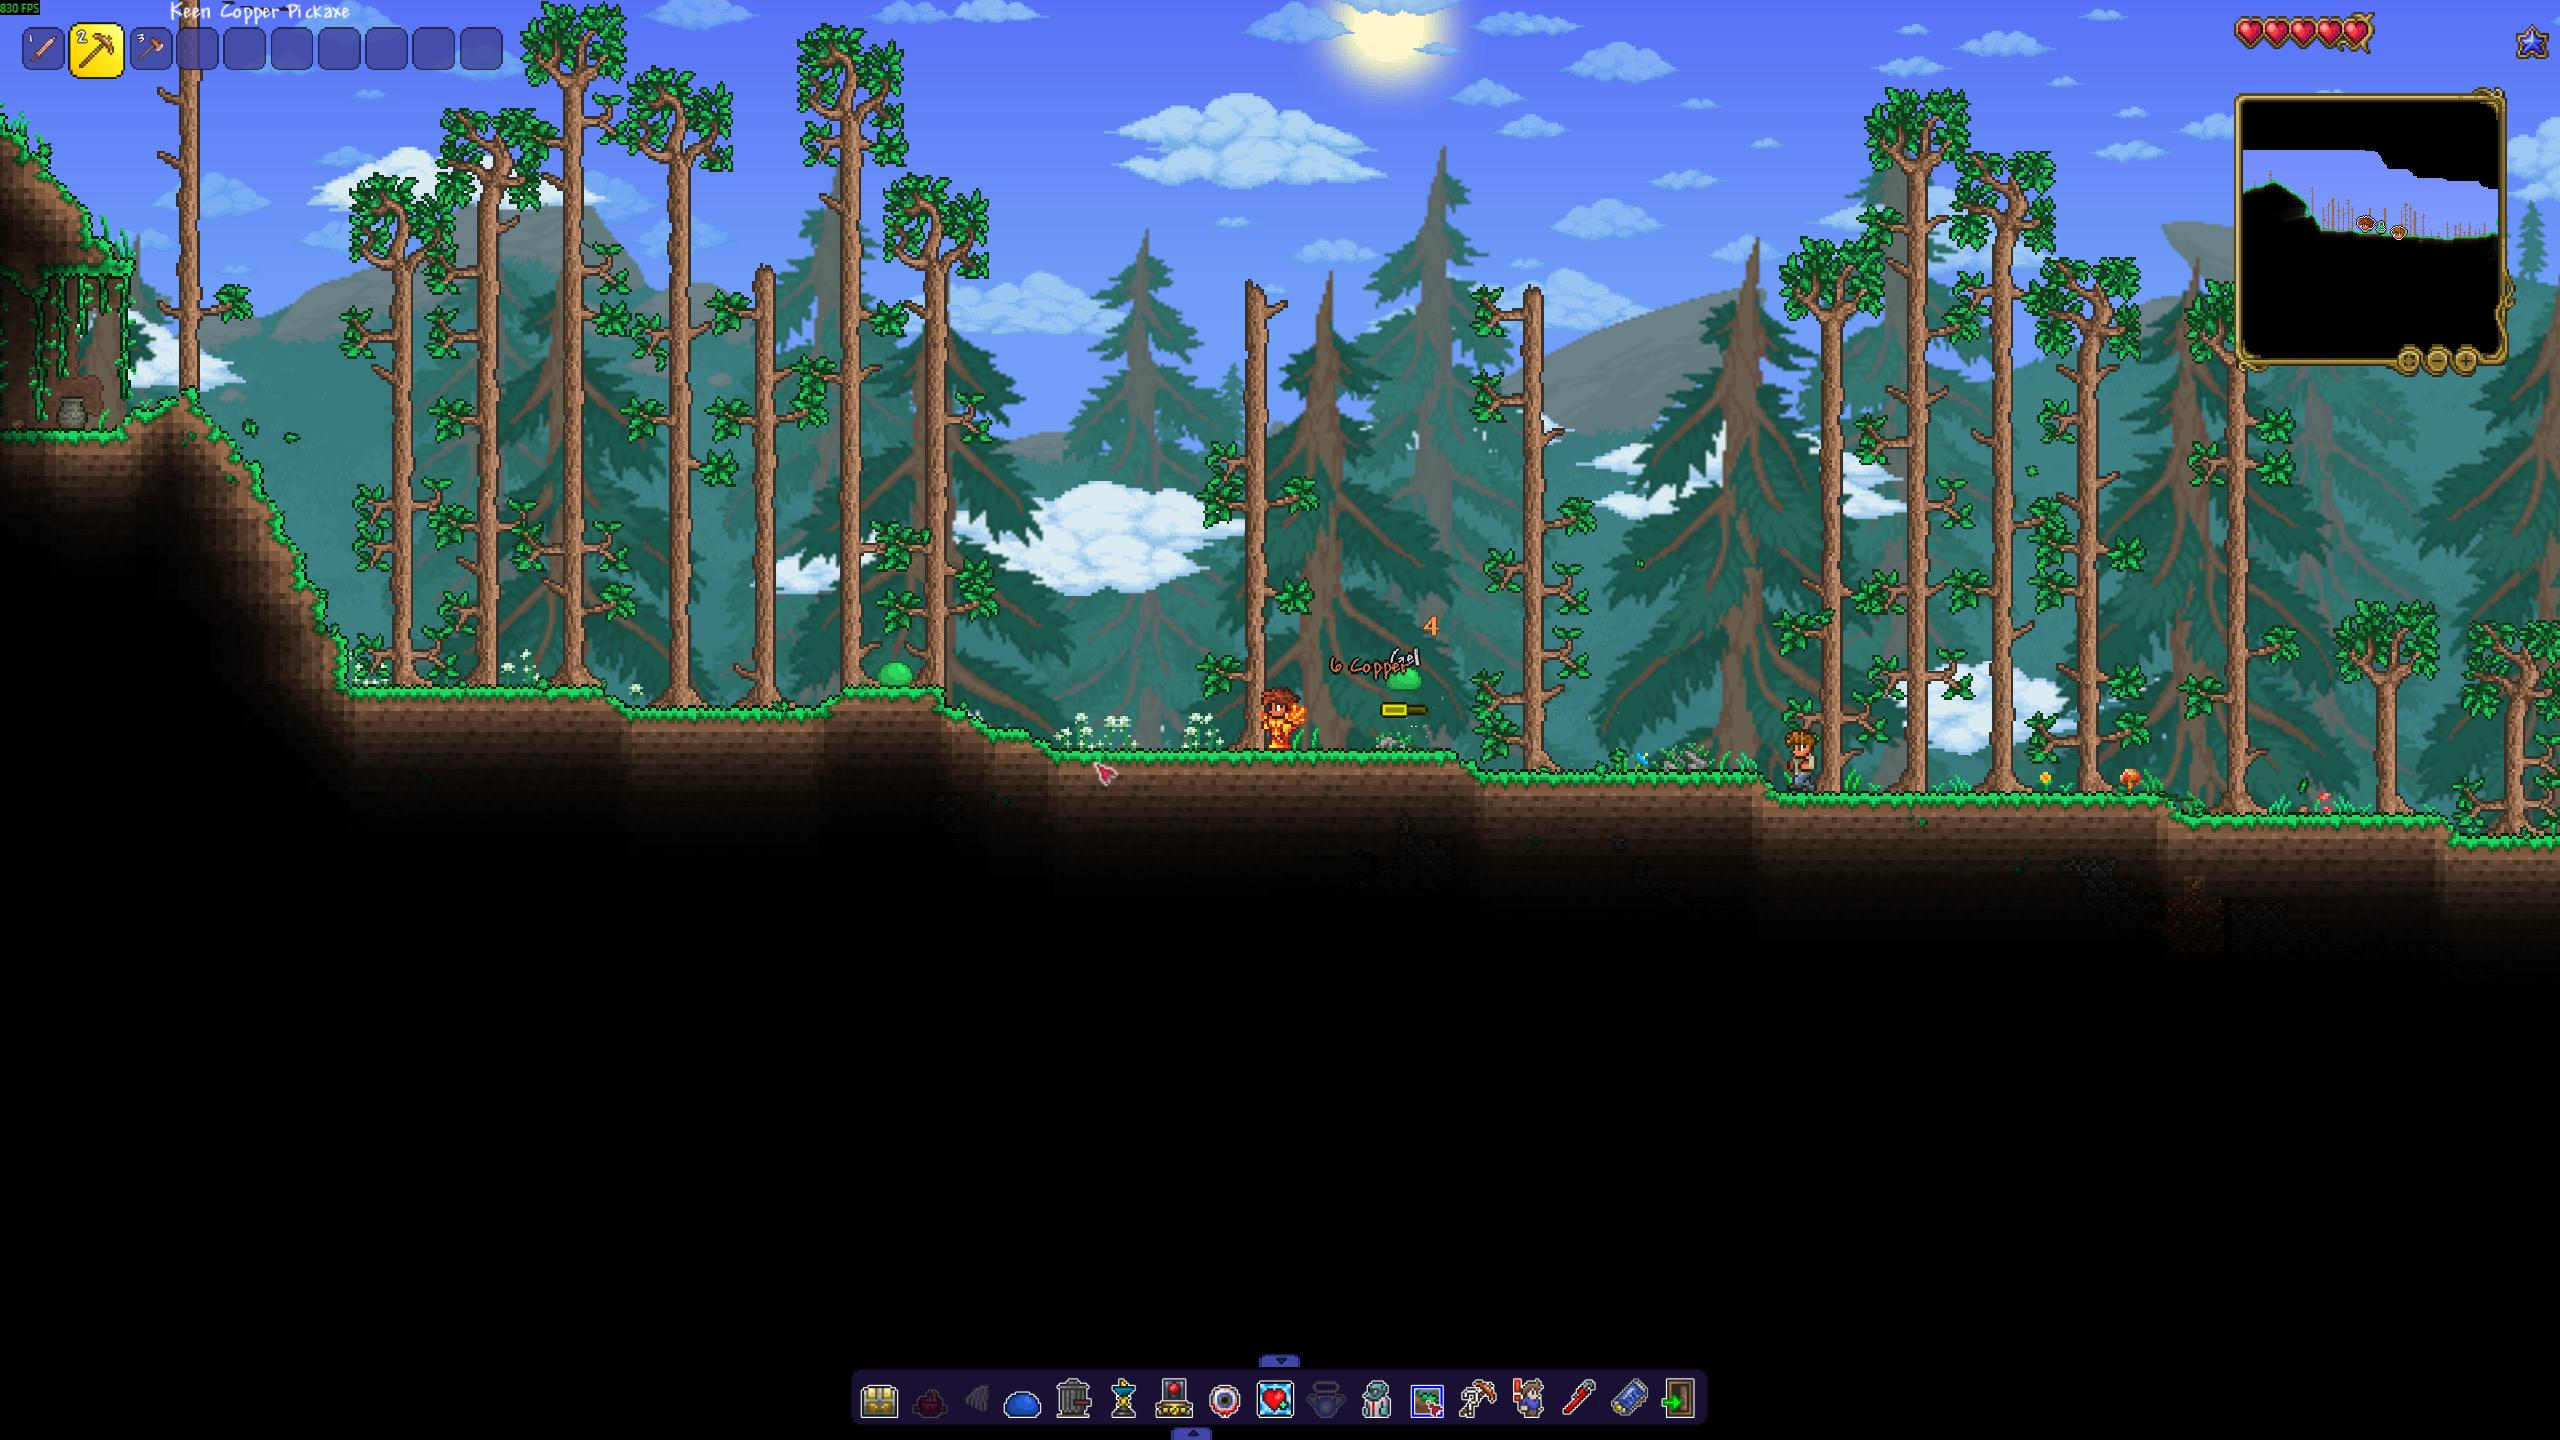Green Slime: (876, 659, 916, 691), (1385, 665, 1422, 691)
